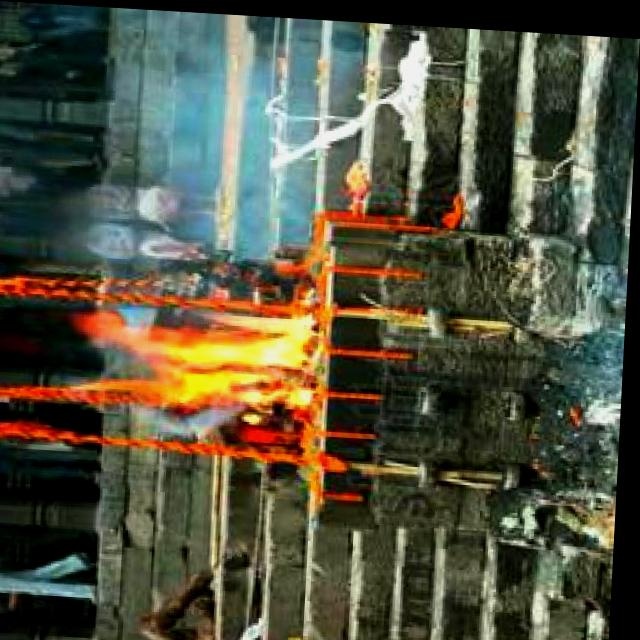Fire: (104, 287, 322, 408)
